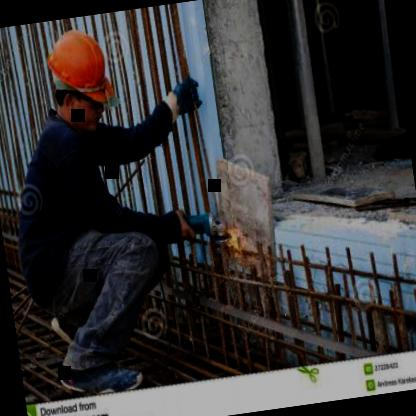helmet: (35, 13, 127, 144)
